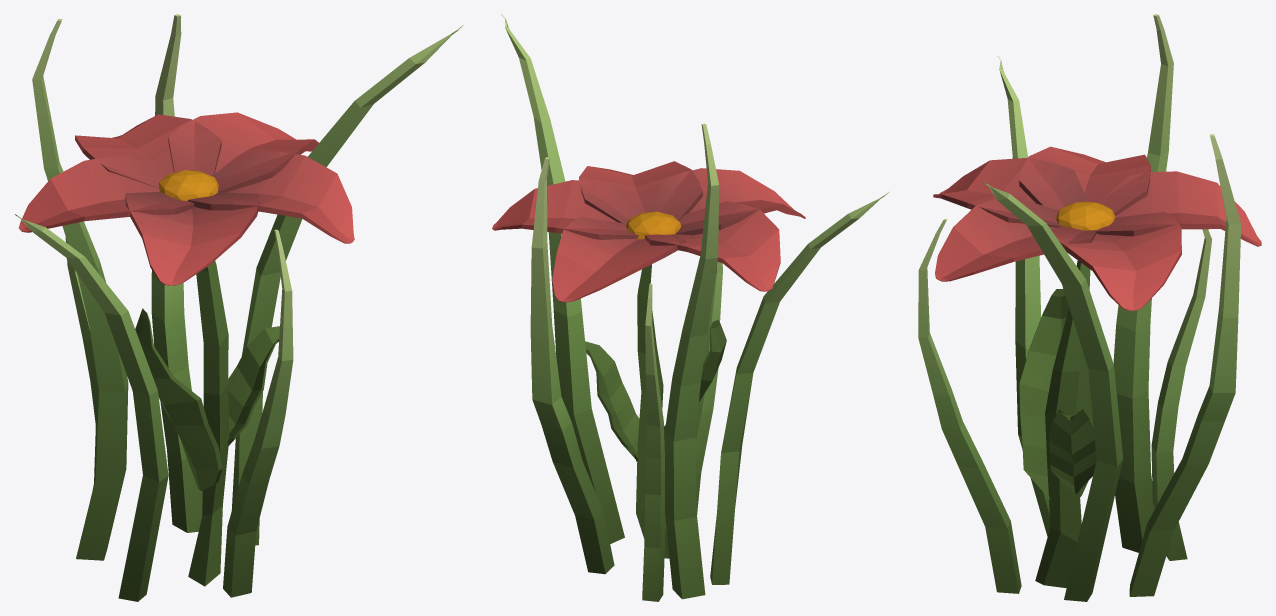
File: flower2.fbx
3 renders of one model, left to right at view 1: azimuth 30°, elevation 25°; view 2: azimuth 150°, elevation 25°; view 3: azimuth 270°, elevation 25°, orthographic. The views are drawn at different scales.
Visible parts, largest first — view 1: Cube.008; view 2: Cube.008; view 3: Cube.008.
Boxes of the visible parts, box(x1,y1,x2,y2) form: Cube.008: box(15, 14, 463, 601); Cube.008: box(492, 14, 889, 601); Cube.008: box(918, 14, 1261, 601).
Bounding box in the file's own units: 53.23 × 63.34 × 36.85.
1 material, 1 textured.
